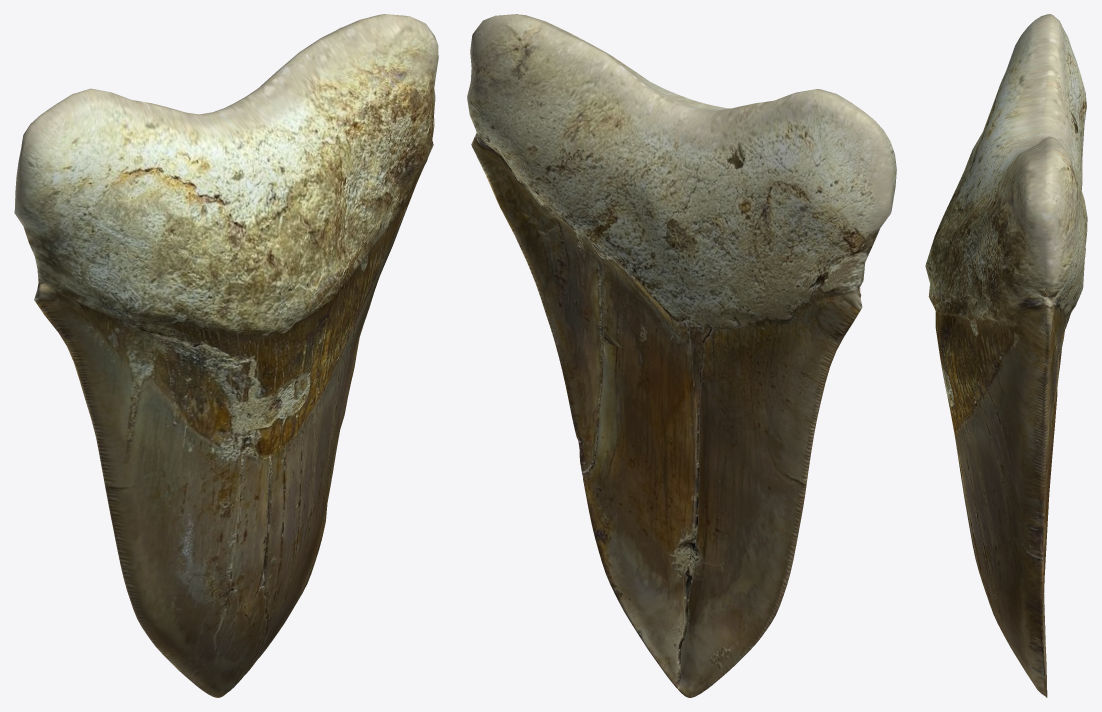
The model's file is megalodon-tooth.glb.
The picture shows the model from 3 angles, left to right: view 1: azimuth 30°, elevation 25°; view 2: azimuth 150°, elevation 25°; view 3: azimuth 270°, elevation 25°; orthographic projection. The views are drawn at different scales.
Visible parts, largest first — view 1: megalodon_teeth_fossil_Material.001_0; view 2: megalodon_teeth_fossil_Material.001_0; view 3: megalodon_teeth_fossil_Material.001_0.
Boxes of the visible parts, x1=… form: megalodon_teeth_fossil_Material.001_0: x1=14, y1=14, x2=438, y2=697; megalodon_teeth_fossil_Material.001_0: x1=467, y1=14, x2=896, y2=697; megalodon_teeth_fossil_Material.001_0: x1=925, y1=14, x2=1087, y2=697.
Size of the model in its own units: 0.1178 by 0.1712 by 0.0408.
Materials: 1 (1 with a texture image).
